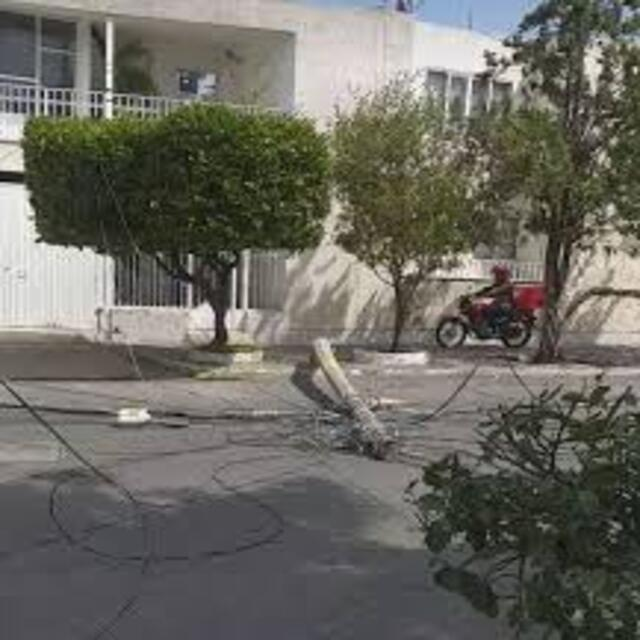Inclined Pole: (305, 331, 398, 462)
